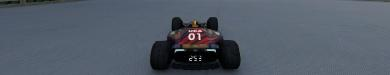Car: (149, 15, 240, 70)
